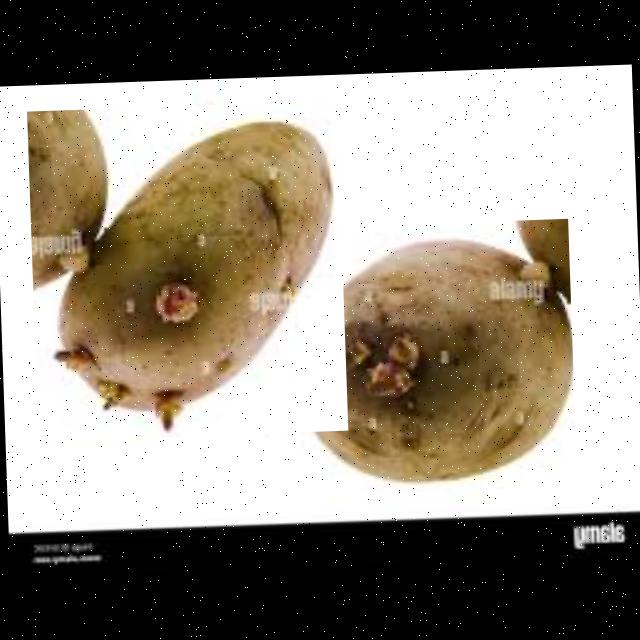Sprouted potato: (26, 99, 347, 440), (263, 218, 576, 496)
